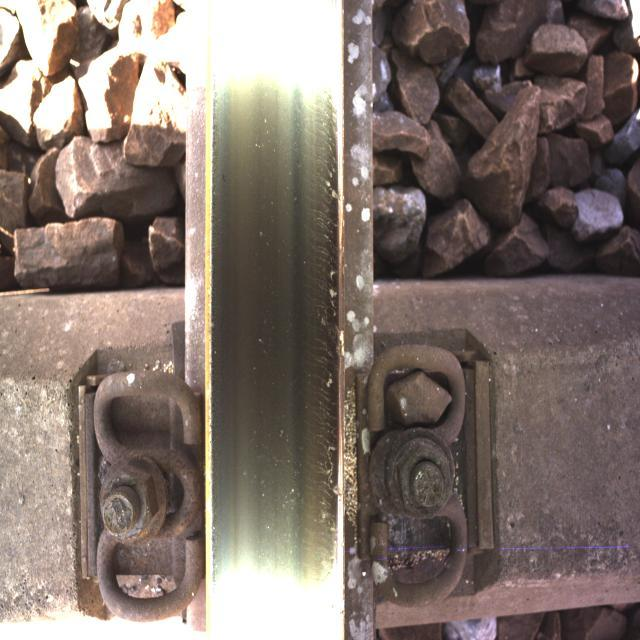normal: (240, 63, 342, 632)
